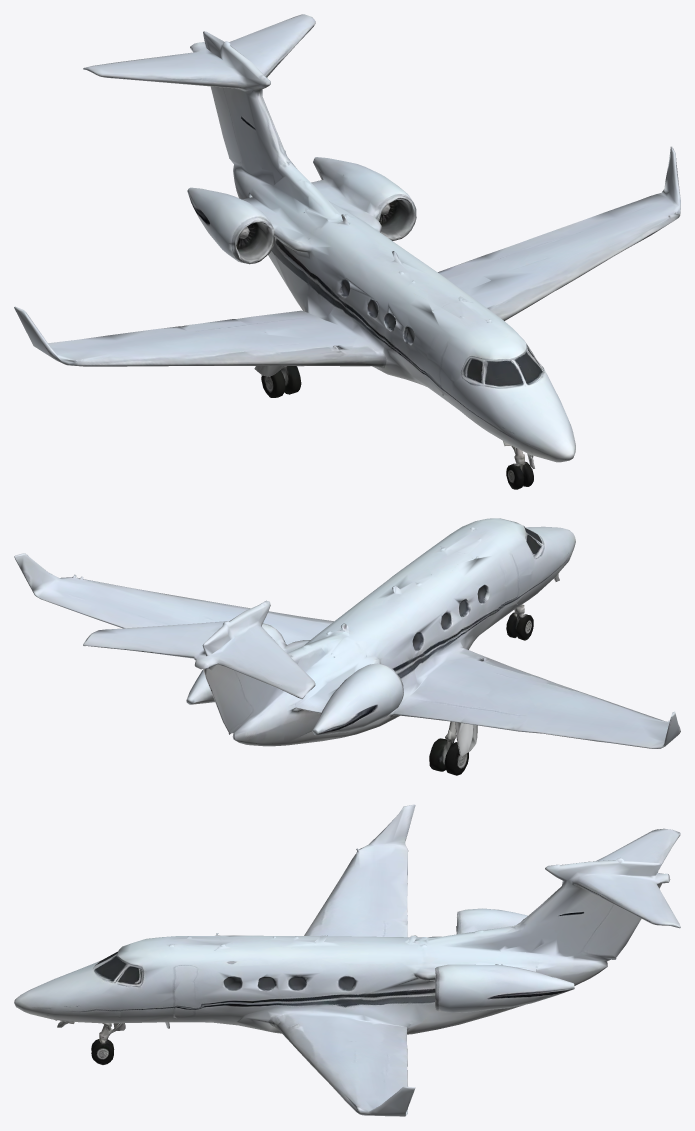
The model's file is private_jet.glb.
The picture shows the model from 3 angles, top to bottom: view 1: azimuth 30°, elevation 25°; view 2: azimuth 150°, elevation 25°; view 3: azimuth 270°, elevation 25°; orthographic projection. The views are drawn at different scales.
Visible parts, largest first — view 1: tripo_node_5a9f7ab7-8cf9-4752-8756-fc679f733189; view 2: tripo_node_5a9f7ab7-8cf9-4752-8756-fc679f733189; view 3: tripo_node_5a9f7ab7-8cf9-4752-8756-fc679f733189.
Part boxes in pixels (x1,y1,x2,y2): tripo_node_5a9f7ab7-8cf9-4752-8756-fc679f733189: [14, 14, 680, 489]; tripo_node_5a9f7ab7-8cf9-4752-8756-fc679f733189: [14, 518, 680, 775]; tripo_node_5a9f7ab7-8cf9-4752-8756-fc679f733189: [14, 804, 680, 1116].
Bounding box in the file's own units: 1 × 0.3359 × 0.9948.
Materials: 1 (1 with a texture image).
